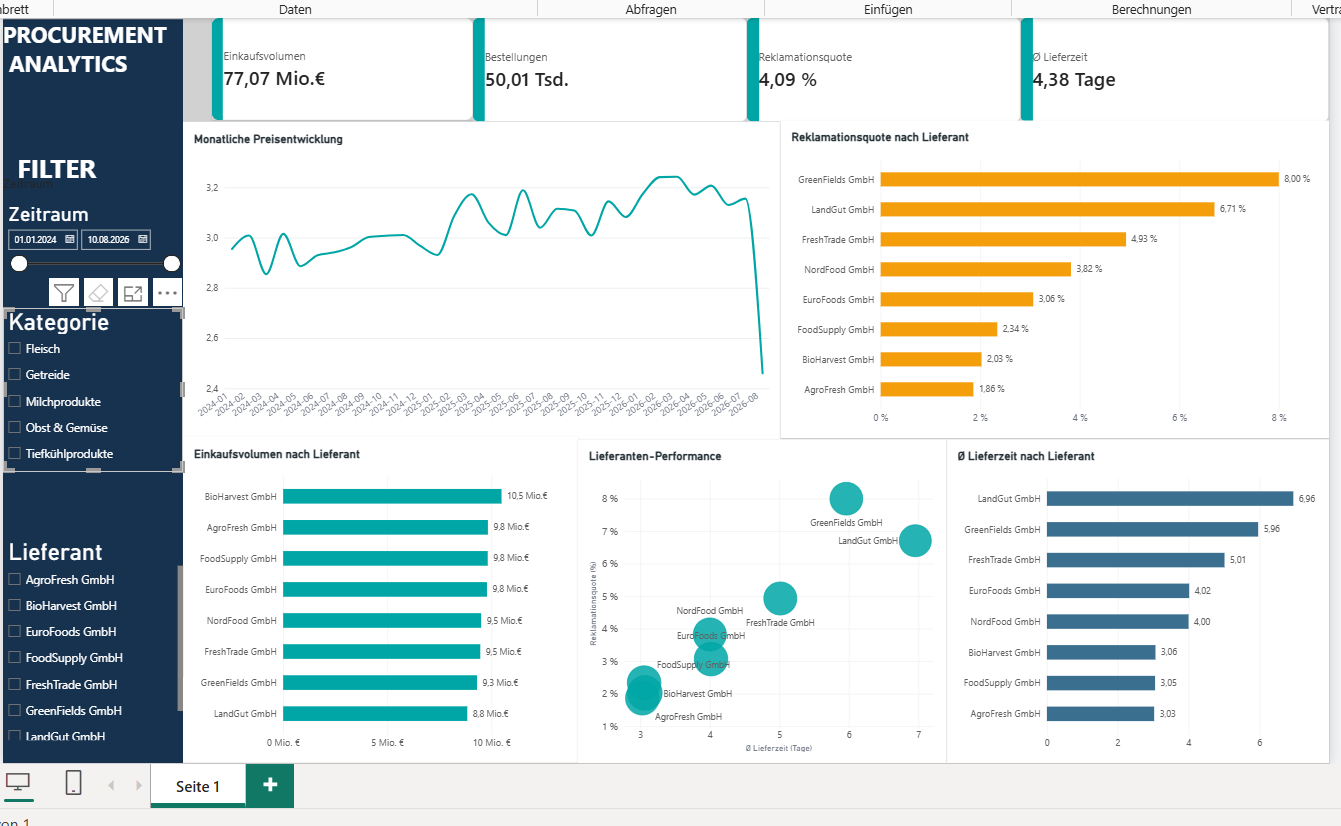

The page's visual inventory and layout, read from the dashboard file:
{"tool":"powerbi","page":{"name":"Seite 1","canvas":[1920,1080],"ordinal":0},"visuals":[{"type":"shape","box":[0,1.8,260.6,1076.7],"z":0},{"type":"cardVisual","title":"Einkaufsvolumen","fields":{"Data":["Sum(public procurement.total_cost)"]},"box":[302.2,0,378.2,148.4],"z":1000},{"type":"cardVisual","title":"Bestellungen","fields":{"Data":["Count(public procurement.order_id)"]},"box":[680.4,0,396.3,150.2],"z":2000},{"type":"cardVisual","title":"Reklamationsquote","fields":{"Data":["public procurement.Reklamationsquote"]},"box":[1076.7,0,396.3,150.2],"z":3000},{"type":"cardVisual","title":"Ø Lieferzeit","fields":{"Data":["public procurement.Ø Lieferzeit Anzeige"]},"box":[1473.1,0,447,150.2],"z":4000},{"type":"lineChart","title":"Monatliche Preisentwicklung","fields":{"Y":["Avg(public procurement.unit_price)"],"Category":["public procurement.JahrMonat"]},"box":[260.6,150.2,865,459.7],"z":5000},{"type":"clusteredBarChart","title":"Einkaufsvolumen nach Lieferant","fields":{"Category":["public procurement.supplier"],"Y":["Sum(public procurement.total_cost)"]},"box":[260.6,606.2,571.9,472.3],"z":6000},{"type":"clusteredBarChart","title":"Reklamationsquote nach Lieferant","fields":{"Category":["public procurement.supplier"],"Y":["public procurement.Reklamationsquote"]},"box":[1125.6,148.4,794.4,459.7],"z":7000},{"type":"clusteredBarChart","title":"Ø Lieferzeit nach Lieferant","fields":{"Category":["public procurement.supplier"],"Y":["Avg(public procurement.delivery_days)"]},"box":[1366.3,609.9,553.8,468.7],"z":8000},{"type":"scatterChart","title":"Lieferanten-Performance","fields":{"X":["Avg(public procurement.delivery_days)"],"Y":["public procurement.Reklamationsquote"],"Category":["public procurement.supplier"],"Size":["Sum(public procurement.total_cost)"]},"box":[832.4,609.9,533.8,468.7],"z":9000},{"type":"slicer","fields":{"Values":["public procurement.supplier"]},"box":[0,752.8,260.6,293.2],"z":10000},{"type":"slicer","fields":{"Values":["public procurement.category"]},"box":[0,419.8,260.6,237.1],"z":11000},{"type":"slicer","title":"Zeitraum","fields":{"Values":["public procurement.order_date"]},"box":[0,229.8,260.6,285.9],"z":12000},{"type":"textbox","box":[0,191.8,220.8,59.7],"z":16001},{"type":"textbox","box":[0,1.8,260.6,164.7],"z":16002}]}

Visuals, with their boxes in screenshot pixels (x1, y1, x2, y2):
shape: 0,71,179,813
"Einkaufsvolumen" cardVisual: 208,70,469,172
"Bestellungen" cardVisual: 469,70,742,173
"Reklamationsquote" cardVisual: 742,70,1015,173
"Ø Lieferzeit" cardVisual: 1015,70,1323,173
"Monatliche Preisentwicklung" lineChart: 179,173,775,490
"Einkaufsvolumen nach Lieferant" clusteredBarChart: 179,487,573,813
"Reklamationsquote nach Lieferant" clusteredBarChart: 775,172,1322,489
"Ø Lieferzeit nach Lieferant" clusteredBarChart: 941,490,1323,813
"Lieferanten-Performance" scatterChart: 573,490,941,813
slicer - public procurement.supplier: 0,588,179,790
slicer - public procurement.category: 0,359,179,522
"Zeitraum" slicer: 0,228,179,425
textbox: 0,202,152,243
textbox: 0,71,179,185
